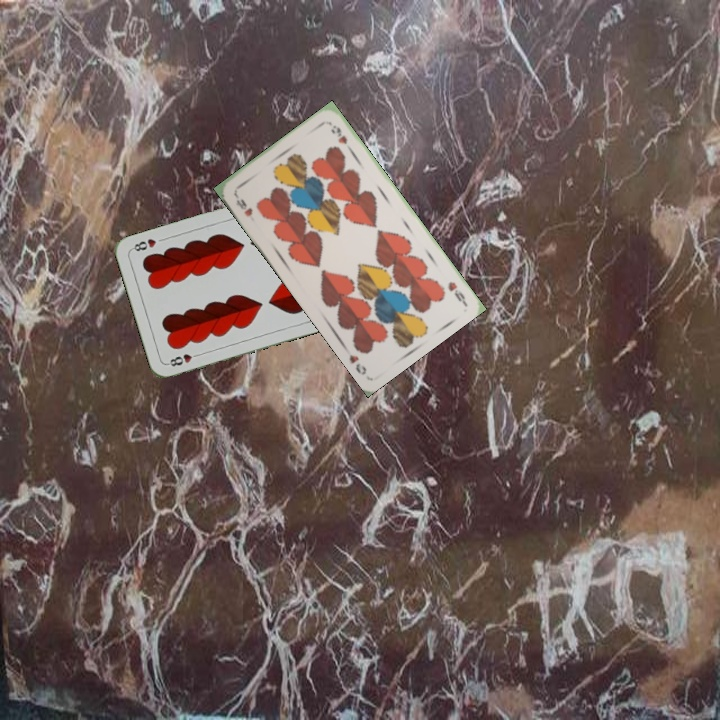H8: (164, 349, 203, 369)
H9: (231, 190, 255, 219), (444, 277, 468, 306)
